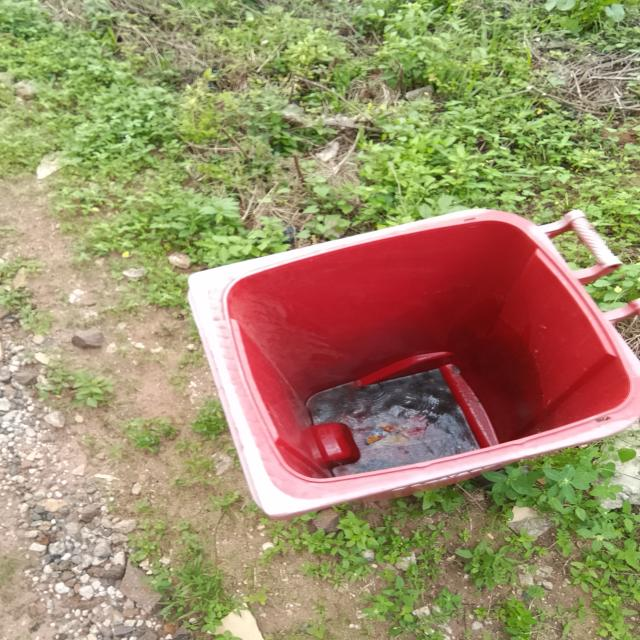empty: (177, 205, 624, 493)
